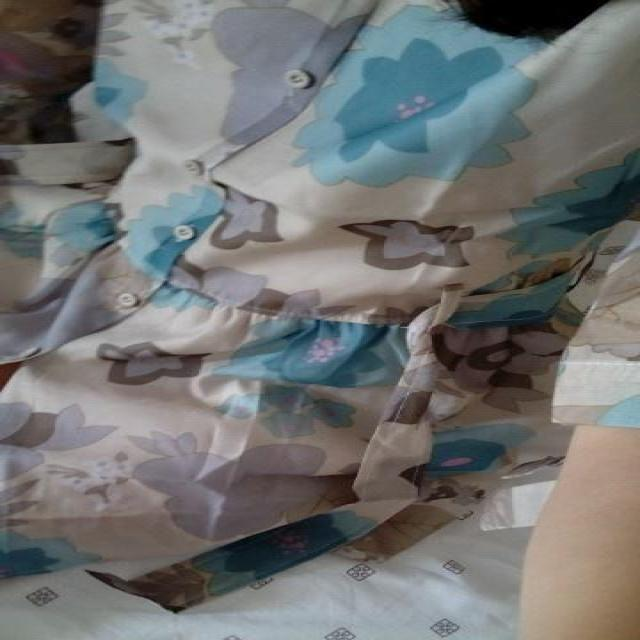short sleeve dress: (2, 2, 636, 577)
